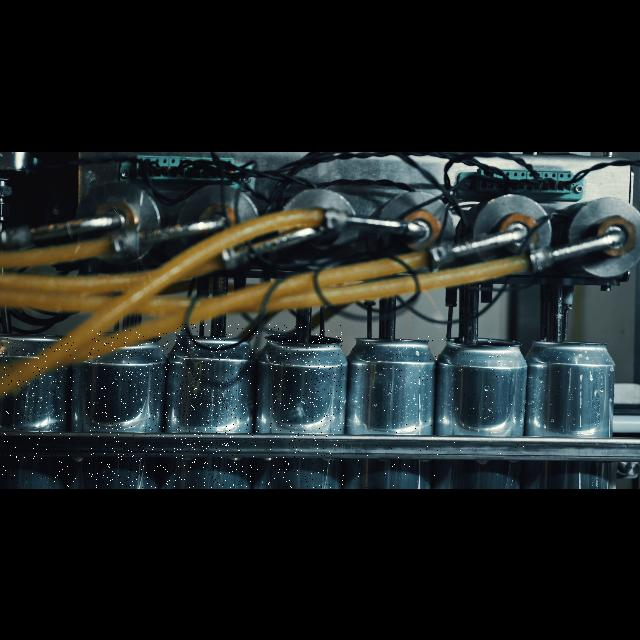empty: (173, 324, 259, 488), (352, 328, 438, 488), (528, 334, 616, 488), (86, 330, 170, 488), (440, 334, 524, 488), (268, 324, 344, 488), (2, 334, 76, 488)
